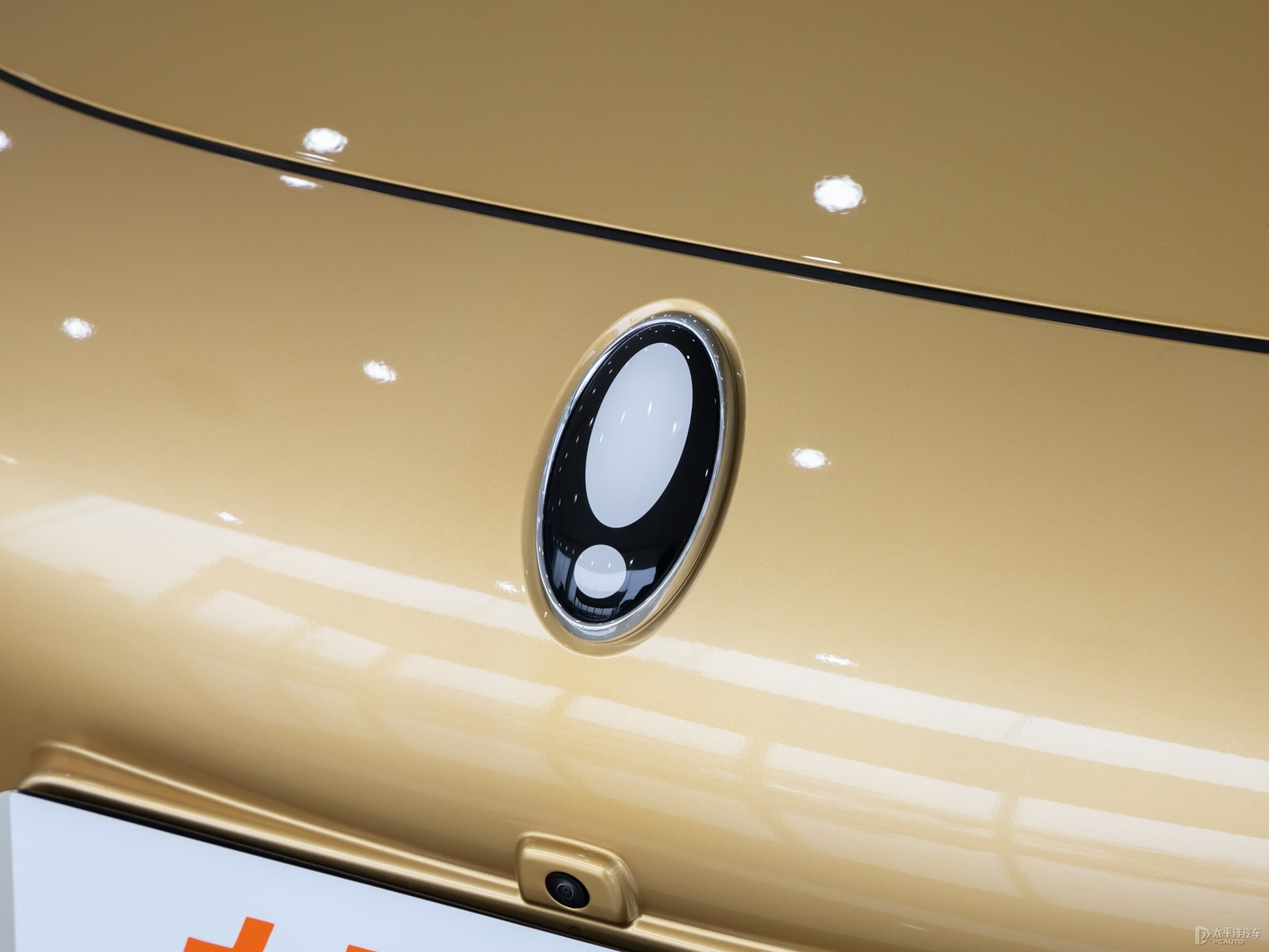ORA: (541, 311, 735, 643)
